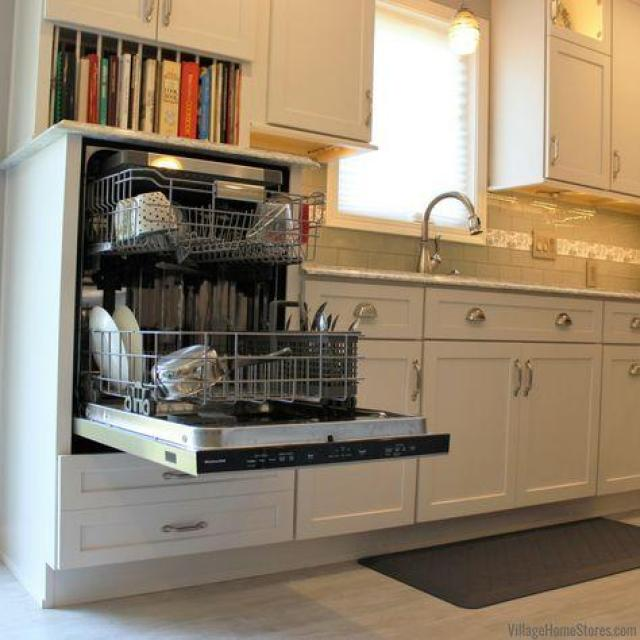dishwasher: (57, 119, 465, 477)
